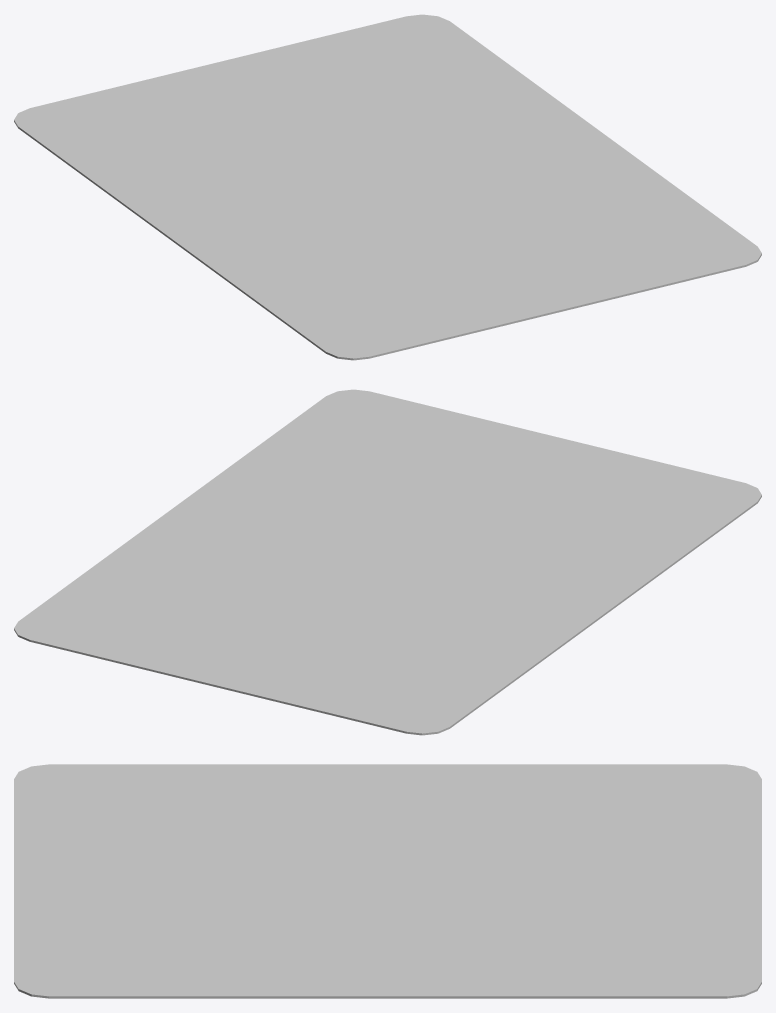
Rendered from BrokenCard.fbx.
The picture shows the model from 3 angles, top to bottom: view 1: azimuth 30°, elevation 25°; view 2: azimuth 150°, elevation 25°; view 3: azimuth 270°, elevation 25°; orthographic projection. The views are drawn at different scales.
Parts seen in each view (by area): view 1: Plane.221, Plane.217, Plane.220, Plane.225, Plane.222, Plane.226, Plane.223, Plane.224, Plane.219, Plane.228, Plane.227, Plane.218; view 2: Plane.221, Plane.220, Plane.217, Plane.225, Plane.222, Plane.226, Plane.223, Plane.224, Plane.219, Plane.228, Plane.227, Plane.218; view 3: Plane.221, Plane.217, Plane.220, Plane.225, Plane.222, Plane.226, Plane.223, Plane.224, Plane.219, Plane.228, Plane.218, Plane.227.
Part boxes in pixels (x1,y1,x2,y2): Plane.221: (326,223,615,360); Plane.217: (545,167,761,301); Plane.220: (317,31,544,167); Plane.225: (161,231,422,353); Plane.222: (357,163,550,267); Plane.226: (124,173,362,243); Plane.223: (196,126,433,208); Plane.224: (169,63,410,135); Plane.219: (171,14,462,94); Plane.228: (14,74,214,147); Plane.227: (18,126,214,205); Plane.218: (509,75,675,186); Plane.221: (382,426,761,507); Plane.220: (32,514,318,614); Plane.217: (245,389,513,513); Plane.225: (521,497,757,623); Plane.222: (270,483,536,559); Plane.226: (433,544,592,650); Plane.223: (318,556,455,655); Plane.224: (179,599,349,697); Plane.219: (14,599,266,699); Plane.228: (267,655,449,735); Plane.227: (351,638,556,728); Plane.218: (92,456,269,567); Plane.221: (14,764,213,937); Plane.217: (14,904,344,998); Plane.220: (345,879,697,998); Plane.225: (49,764,411,849); Plane.222: (170,836,413,953); Plane.226: (276,764,523,857); Plane.223: (350,810,619,911); Plane.224: (543,844,761,940); Plane.219: (583,854,761,998); Plane.228: (621,764,761,854); Plane.218: (227,954,565,998); Plane.227: (493,764,726,843).
Bounding box in the file's own units: 124 × 0.5338 × 169.
